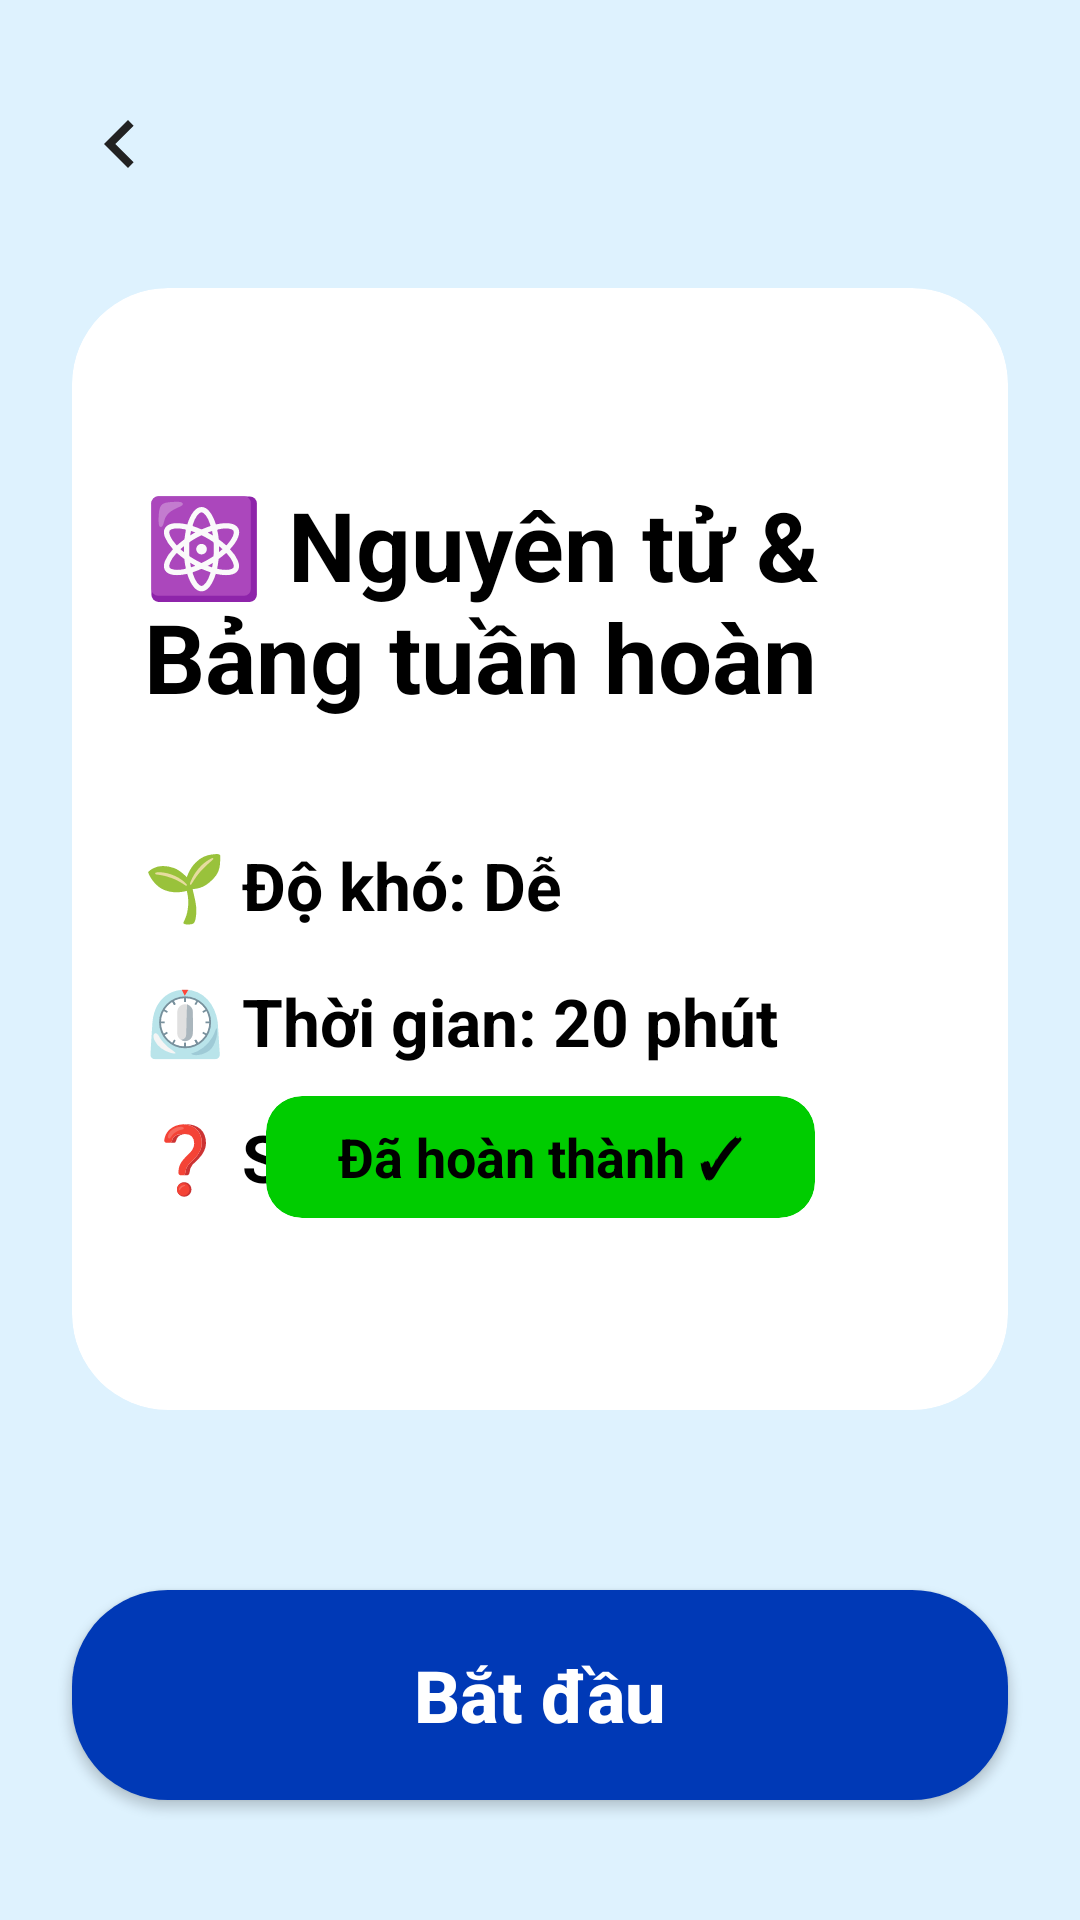

Icons on this 1080x1920 Android screen, each with its box as {"left": x1, "top": y1, "right": x2, "bottom": y2}:
back arrow: {"left": 104, "top": 120, "right": 134, "bottom": 168}
